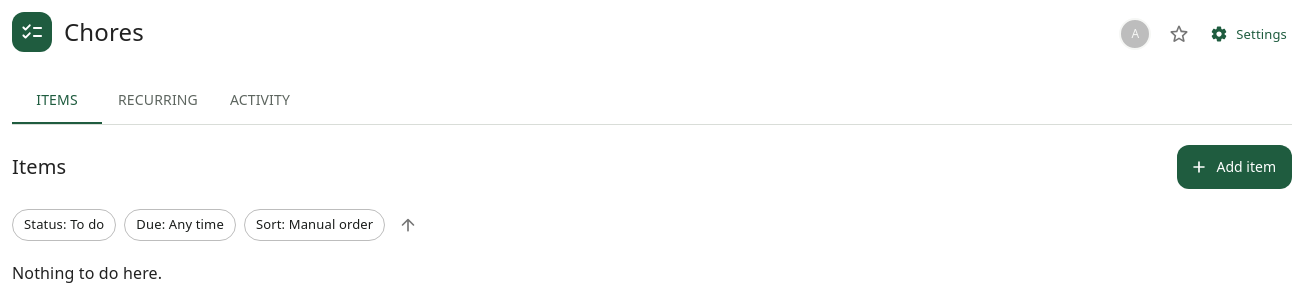
Test: ListDetailPage › moves between the tabs
The width and height of the screenshot is (1304, 300).
Expected: the heading "Items" is shown, [12,151,66,183]
Click the tab "Activity".
click(260, 100)  # box [230,90,290,109]
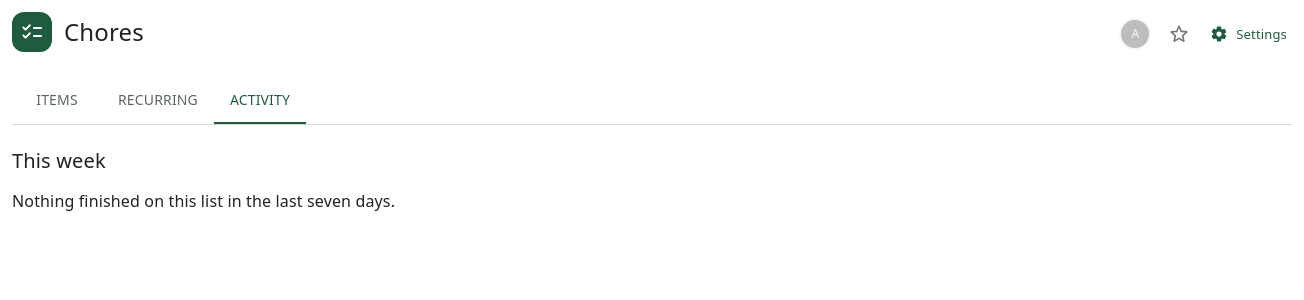
Now the heading "This week" is shown, box [12,147,106,174]
